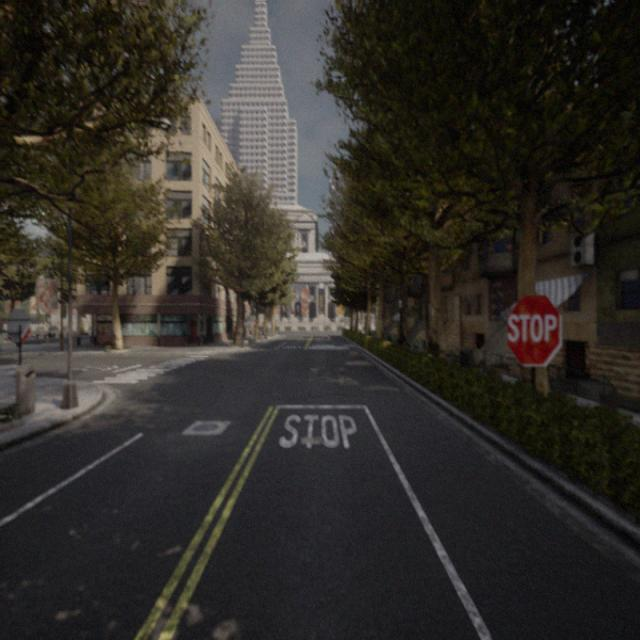stop sign: (503, 290, 564, 369), (507, 310, 558, 344)
